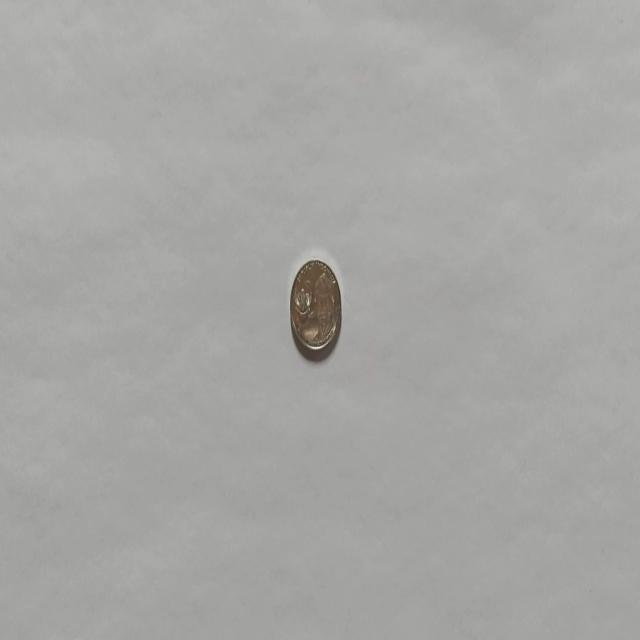dua ratus rupiah: (288, 257, 342, 354)
